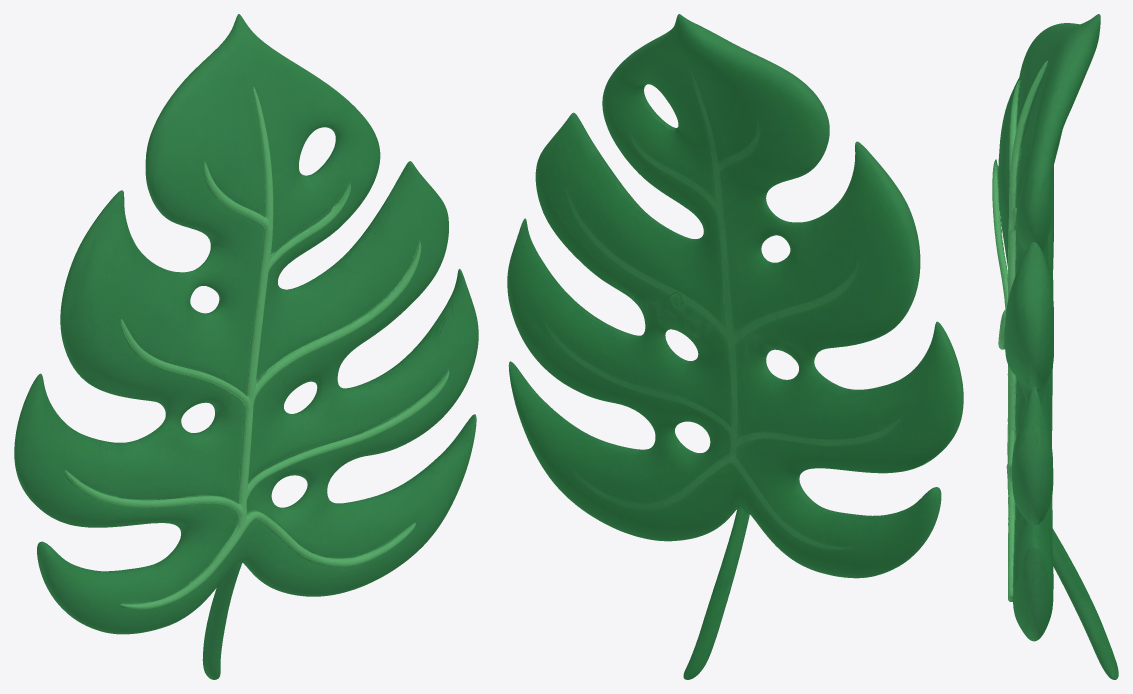
File: Foglia.glb
The picture shows the model from 3 angles, left to right: view 1: azimuth 30°, elevation 25°; view 2: azimuth 150°, elevation 25°; view 3: azimuth 270°, elevation 25°; orthographic projection. The views are drawn at different scales.
Size of the model in its own units: 1.37 by 1.9 by 0.3232.
Materials: 1 (1 with a texture image).
